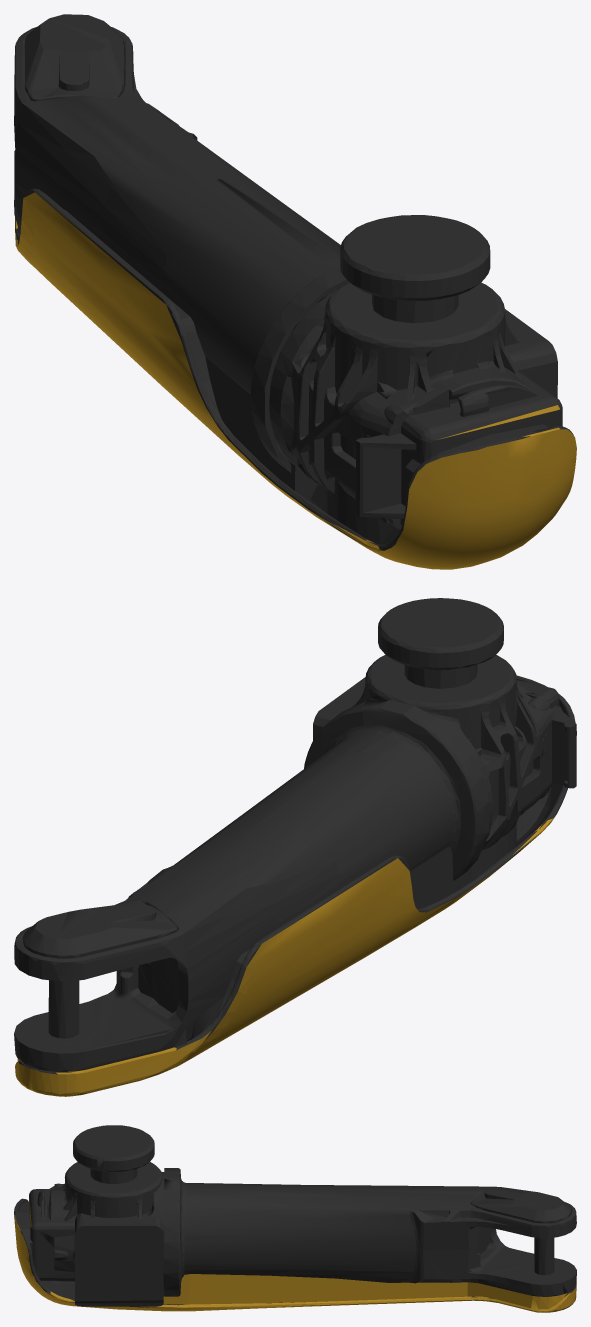
The model's file is rear_right_upper_leg.glb.
3 views of the same model, one above another, from view 1: azimuth 30°, elevation 25°; view 2: azimuth 150°, elevation 25°; view 3: azimuth 270°, elevation 25° (orthographic). The views are drawn at different scales.
Visible parts, largest first — view 1: rear_right_upper_leg; view 2: rear_right_upper_leg; view 3: rear_right_upper_leg.
Part boxes in pixels (left/top/right/bottom): rear_right_upper_leg: left=14, top=14, right=576, bottom=569; rear_right_upper_leg: left=14, top=598, right=576, bottom=1096; rear_right_upper_leg: left=14, top=1125, right=576, bottom=1312.
Bounding box in the file's own units: 0.1011 × 0.1322 × 0.4185.
